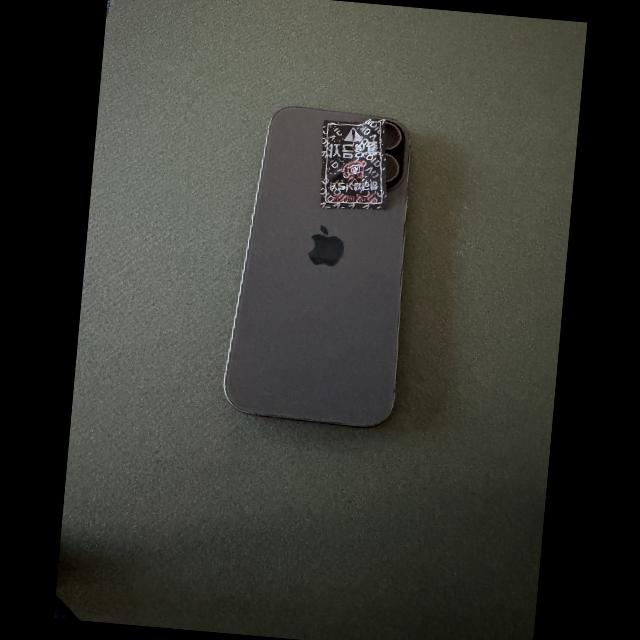lens: (383, 123, 399, 150), (385, 156, 397, 181)
phone: (224, 106, 410, 426)
sticker: (319, 118, 388, 210)
